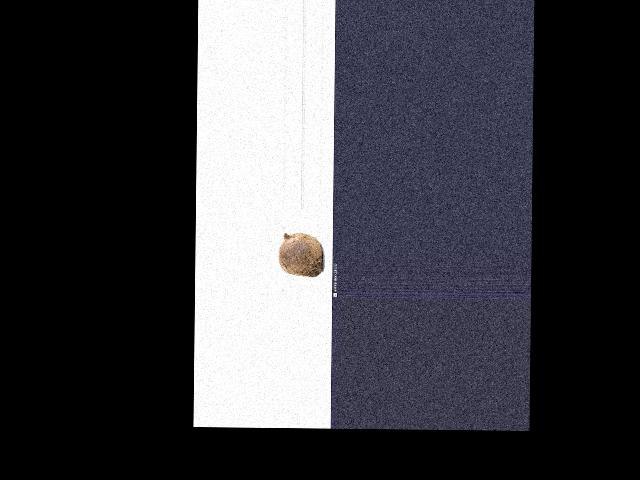beet: (278, 232, 323, 276)
